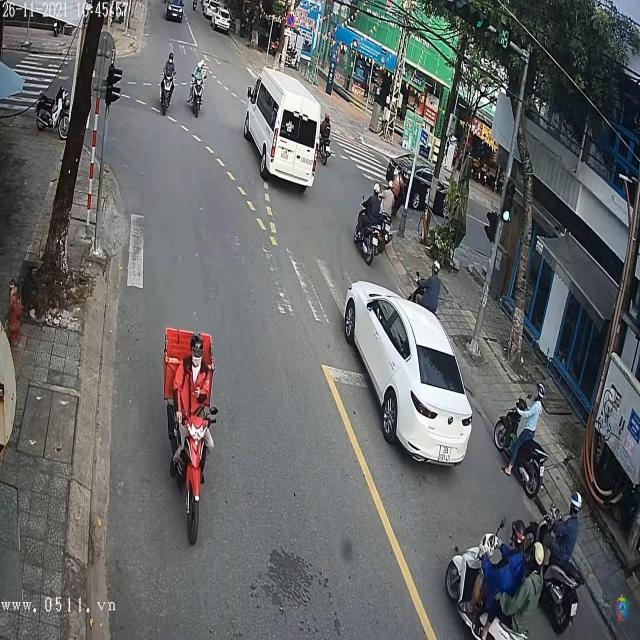bus: (244, 69, 326, 188)
car: (340, 281, 476, 467), (165, 2, 183, 23)
motorcycle: (165, 394, 217, 548), (494, 394, 546, 496), (353, 206, 393, 265), (158, 67, 178, 120), (188, 65, 206, 120)
